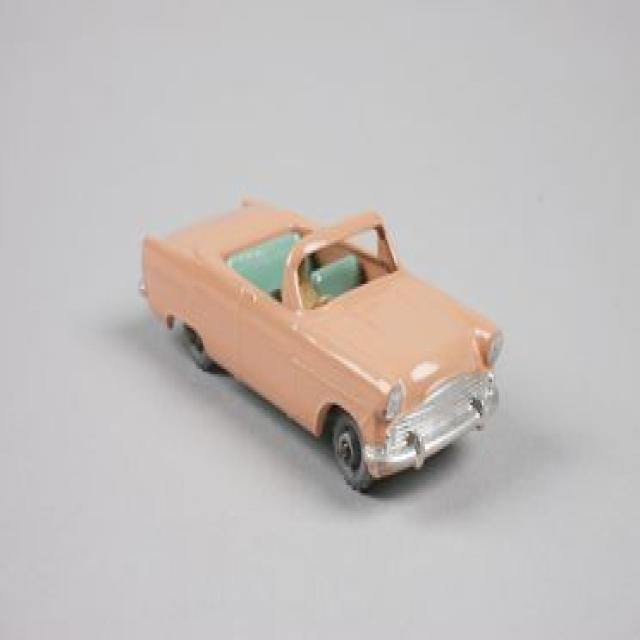Car: (138, 193, 502, 493)
